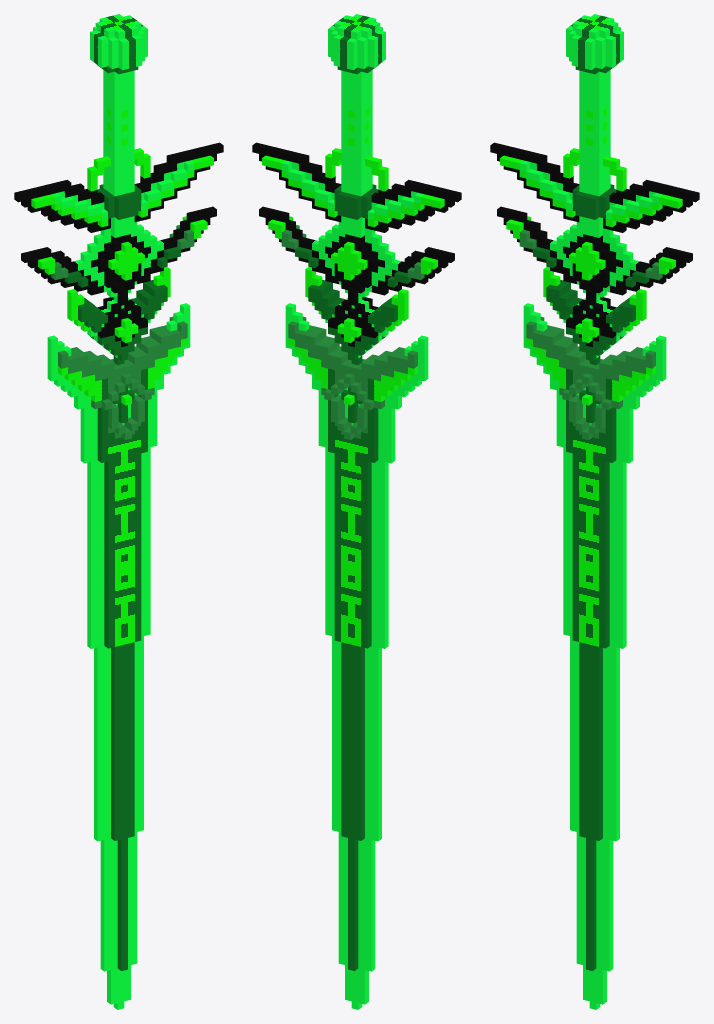
The model's file is 万毒之剑.gltf.
3 views of the same model, side by side, from view 1: azimuth 30°, elevation 25°; view 2: azimuth 150°, elevation 25°; view 3: azimuth 330°, elevation 25° (orthographic).
Visible parts, largest first — view 1: Object; view 2: Object; view 3: Object.
Boxes of the visible parts, x1,y1,x2,y2 form: Object: (14,14,223,1009); Object: (252,14,461,1009); Object: (490,14,699,1009).
Bounding box in the file's own units: 31 × 142 × 7.
Materials: 1 (1 with a texture image).
